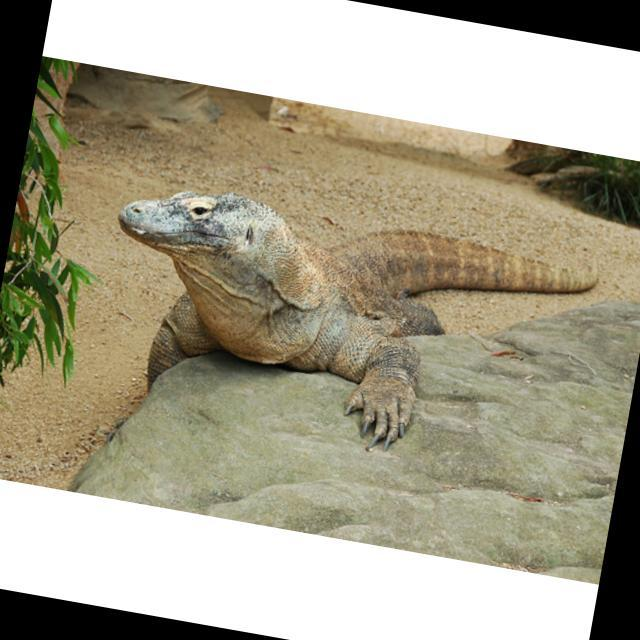KomodoDragon: (79, 158, 605, 487)
